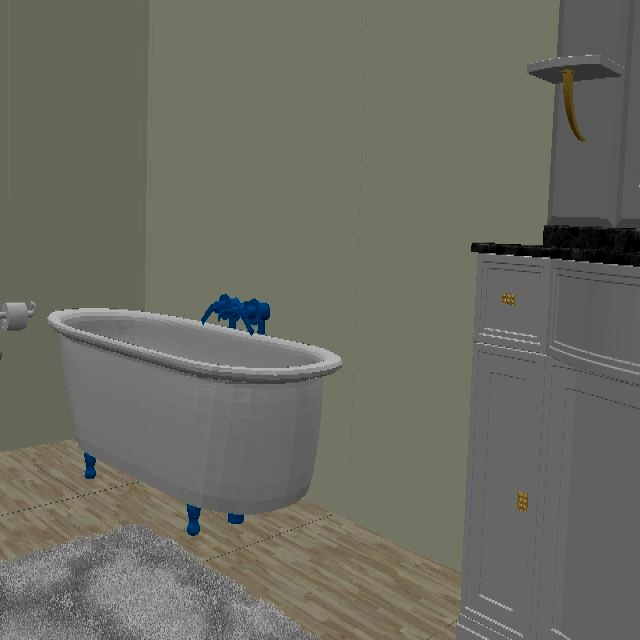bathtube: (48, 308, 342, 519)
